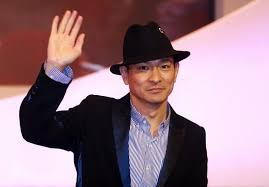palm: (46, 8, 87, 67)
